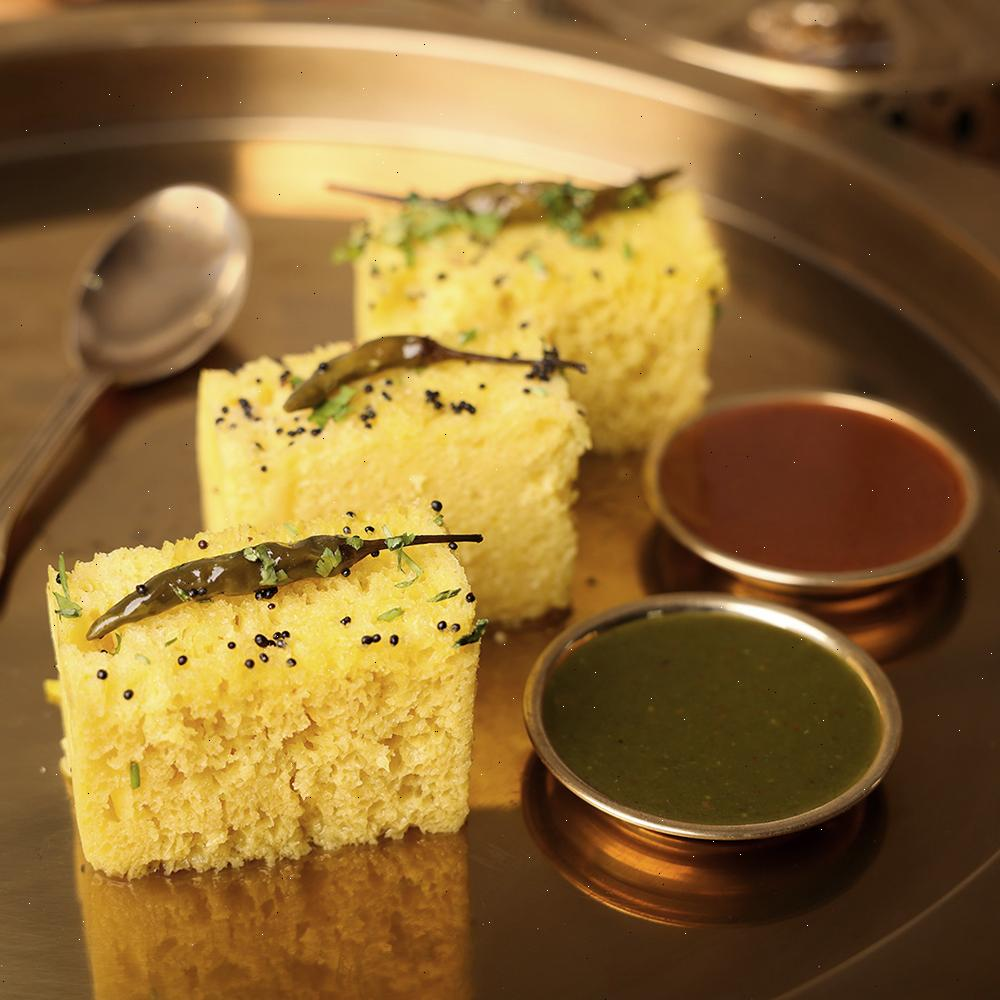yellow dhokla: (32, 488, 489, 893)
